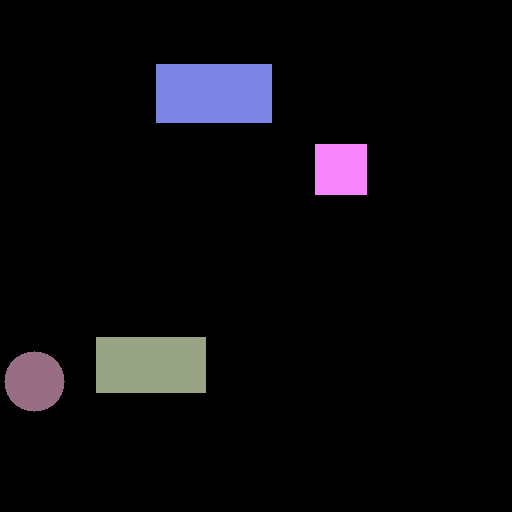circle: (4, 351, 64, 411)
rectangle: (156, 64, 271, 122), (96, 337, 205, 392)
square: (315, 144, 366, 194)
